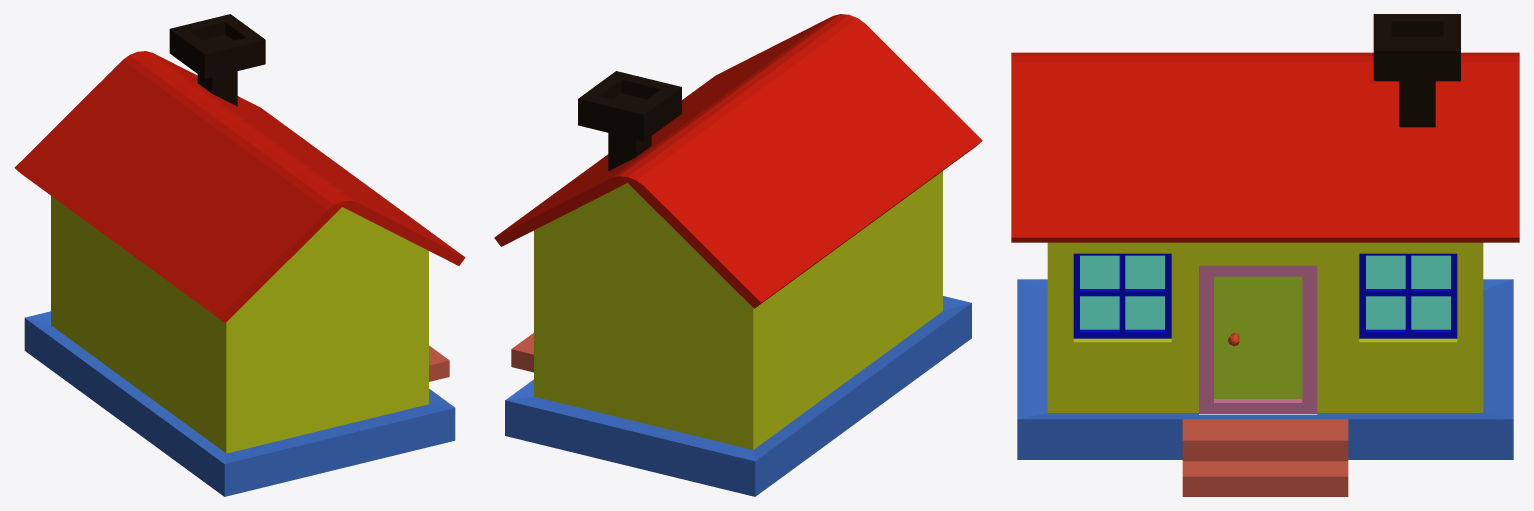
File: Casa_1.obj
The picture shows the model from 3 angles, left to right: view 1: azimuth 30°, elevation 25°; view 2: azimuth 150°, elevation 25°; view 3: azimuth 270°, elevation 25°; orthographic projection. The views are drawn at different scales.
Visible parts, largest first — view 1: house, Techo, chimenea; view 2: house, Techo, chimenea; view 3: Techo, house, Door, ventana, chimenea.
Boxes of the visible parts, box(x1,y1,x2,y2) form: house: box(24, 196, 455, 496); Techo: box(14, 51, 465, 322); chimenea: box(169, 14, 265, 106); house: box(505, 171, 971, 496); Techo: box(494, 14, 982, 308); chimenea: box(578, 71, 681, 171); Techo: box(1011, 52, 1519, 242); house: box(1017, 242, 1513, 496); Door: box(1199, 265, 1317, 413); ventana: box(1073, 253, 1457, 338); chimenea: box(1373, 14, 1460, 127).
Bounding box in the file's own units: 11.84 × 11.59 × 14.
